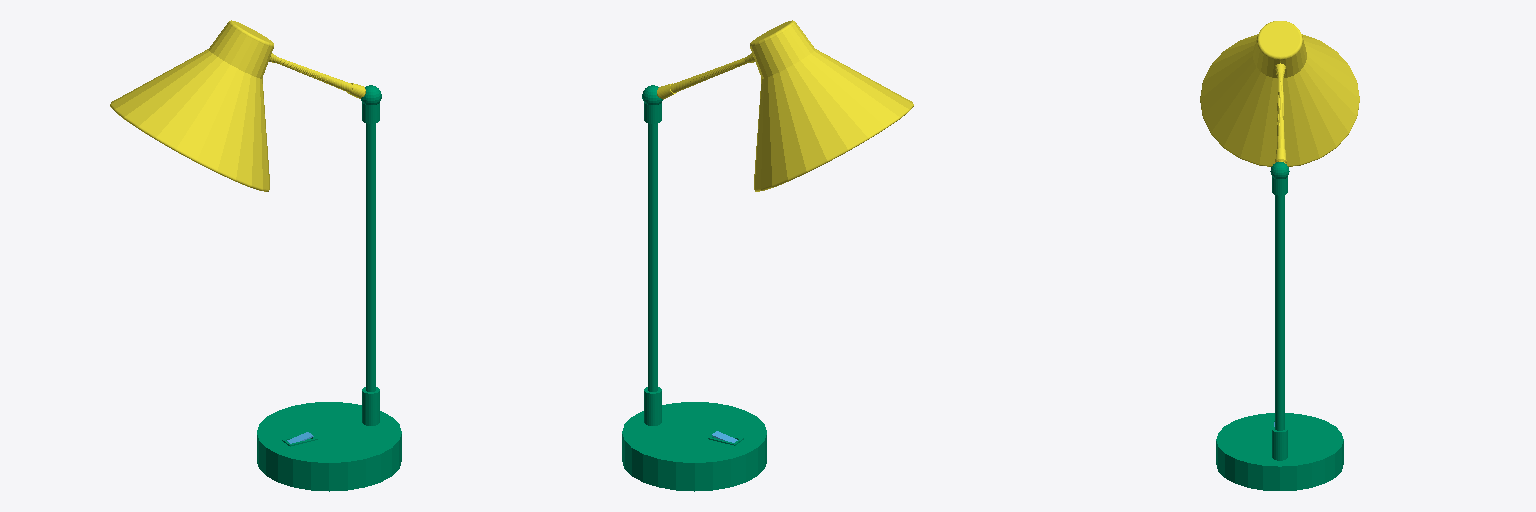
robot.urdf — partnet_80d86a40527fd0a7edd4171cd40b3feb:
<?xml version='1.0' encoding='utf-8'?>
<robot name="partnet_80d86a40527fd0a7edd4171cd40b3feb">
	<link name="base" />
	<link name="link_0">
		<visual name="movable_part-21">
			<origin xyz="0 0.7912494478839914 0.1292278414417505" />
			<geometry>
				<mesh filename="textured_objs/original-6.obj" />
			</geometry>
		</visual>
		<collision>
			<origin xyz="0 0.7912494478839914 0.1292278414417505" />
			<geometry>
				<mesh filename="textured_objs/original-6.obj" />
			</geometry>
		</collision>
	</link>
	<joint name="joint_0" type="revolute">
		<origin xyz="0 -0.7912494478839914 -0.1292278414417505" />
		<axis xyz="-1 0 0" />
		<child link="link_0" />
		<parent link="link_1" />
		<limit lower="0.0" upper="0.26389378290154264" />
	</joint>
	<link name="link_1">
		<visual name="other_leaf-24">
			<origin xyz="0 0 0" />
			<geometry>
				<mesh filename="textured_objs/original-14.obj" />
			</geometry>
		</visual>
		<visual name="other_leaf-24">
			<origin xyz="0 0 0" />
			<geometry>
				<mesh filename="textured_objs/original-15.obj" />
			</geometry>
		</visual>
		<visual name="other_leaf-24">
			<origin xyz="0 0 0" />
			<geometry>
				<mesh filename="textured_objs/original-16.obj" />
			</geometry>
		</visual>
		<visual name="other_leaf-24">
			<origin xyz="0 0 0" />
			<geometry>
				<mesh filename="textured_objs/original-17.obj" />
			</geometry>
		</visual>
		<visual name="other_leaf-24">
			<origin xyz="0 0 0" />
			<geometry>
				<mesh filename="textured_objs/original-18.obj" />
			</geometry>
		</visual>
		<visual name="other_leaf-24">
			<origin xyz="0 0 0" />
			<geometry>
				<mesh filename="textured_objs/original-19.obj" />
			</geometry>
		</visual>
		<visual name="other_leaf-24">
			<origin xyz="0 0 0" />
			<geometry>
				<mesh filename="textured_objs/original-20.obj" />
			</geometry>
		</visual>
		<visual name="other_leaf-24">
			<origin xyz="0 0 0" />
			<geometry>
				<mesh filename="textured_objs/original-22.obj" />
			</geometry>
		</visual>
		<visual name="other_leaf-24">
			<origin xyz="0 0 0" />
			<geometry>
				<mesh filename="textured_objs/original-21.obj" />
			</geometry>
		</visual>
		<visual name="other_leaf-24">
			<origin xyz="0 0 0" />
			<geometry>
				<mesh filename="textured_objs/original-23.obj" />
			</geometry>
		</visual>
		<visual name="other_leaf-24">
			<origin xyz="0 0 0" />
			<geometry>
				<mesh filename="textured_objs/original-24.obj" />
			</geometry>
		</visual>
		<visual name="lamp_pole-15">
			<origin xyz="0 0 0" />
			<geometry>
				<mesh filename="textured_objs/original-10.obj" />
			</geometry>
		</visual>
		<visual name="connector-9">
			<origin xyz="0 0 0" />
			<geometry>
				<mesh filename="textured_objs/original-11.obj" />
			</geometry>
		</visual>
		<visual name="lamp_base_part-17">
			<origin xyz="0 0 0" />
			<geometry>
				<mesh filename="textured_objs/original-25.obj" />
			</geometry>
		</visual>
		<visual name="fixed_part-22">
			<origin xyz="0 0 0" />
			<geometry>
				<mesh filename="textured_objs/original-5.obj" />
			</geometry>
		</visual>
		<collision>
			<origin xyz="0 0 0" />
			<geometry>
				<mesh filename="textured_objs/original-14.obj" />
			</geometry>
		</collision>
		<collision>
			<origin xyz="0 0 0" />
			<geometry>
				<mesh filename="textured_objs/original-15.obj" />
			</geometry>
		</collision>
		<collision>
			<origin xyz="0 0 0" />
			<geometry>
				<mesh filename="textured_objs/original-16.obj" />
			</geometry>
		</collision>
		<collision>
			<origin xyz="0 0 0" />
			<geometry>
				<mesh filename="textured_objs/original-17.obj" />
			</geometry>
		</collision>
		<collision>
			<origin xyz="0 0 0" />
			<geometry>
				<mesh filename="textured_objs/original-18.obj" />
			</geometry>
		</collision>
		<collision>
			<origin xyz="0 0 0" />
			<geometry>
				<mesh filename="textured_objs/original-19.obj" />
			</geometry>
		</collision>
		<collision>
			<origin xyz="0 0 0" />
			<geometry>
				<mesh filename="textured_objs/original-20.obj" />
			</geometry>
		</collision>
		<collision>
			<origin xyz="0 0 0" />
			<geometry>
				<mesh filename="textured_objs/original-22.obj" />
			</geometry>
		</collision>
		<collision>
			<origin xyz="0 0 0" />
			<geometry>
				<mesh filename="textured_objs/original-21.obj" />
			</geometry>
		</collision>
		<collision>
			<origin xyz="0 0 0" />
			<geometry>
				<mesh filename="textured_objs/original-23.obj" />
			</geometry>
		</collision>
		<collision>
			<origin xyz="0 0 0" />
			<geometry>
				<mesh filename="textured_objs/original-24.obj" />
			</geometry>
		</collision>
		<collision>
			<origin xyz="0 0 0" />
			<geometry>
				<mesh filename="textured_objs/original-10.obj" />
			</geometry>
		</collision>
		<collision>
			<origin xyz="0 0 0" />
			<geometry>
				<mesh filename="textured_objs/original-11.obj" />
			</geometry>
		</collision>
		<collision>
			<origin xyz="0 0 0" />
			<geometry>
				<mesh filename="textured_objs/original-25.obj" />
			</geometry>
		</collision>
		<collision>
			<origin xyz="0 0 0" />
			<geometry>
				<mesh filename="textured_objs/original-5.obj" />
			</geometry>
		</collision>
	</link>
	<joint name="joint_1" type="fixed">
		<origin rpy="1.570796326794897 0 -1.570796326794897" xyz="0 0 0" />
		<child link="link_1" />
		<parent link="base" />
	</joint>
	<link name="link_2">
		<visual name="lamp_arm_straight_bar-7">
			<origin xyz="0.004340000000000001 0 0.38319" />
			<geometry>
				<mesh filename="textured_objs/original-3.obj" />
			</geometry>
		</visual>
		<visual name="lamp_shade-13">
			<origin xyz="0.004340000000000001 0 0.38319" />
			<geometry>
				<mesh filename="textured_objs/new-3.obj" />
			</geometry>
		</visual>
		<visual name="light_socket-11">
			<origin xyz="0.004340000000000001 0 0.38319" />
			<geometry>
				<mesh filename="textured_objs/new-0.obj" />
			</geometry>
		</visual>
		<visual name="light_socket-11">
			<origin xyz="0.004340000000000001 0 0.38319" />
			<geometry>
				<mesh filename="textured_objs/original-29.obj" />
			</geometry>
		</visual>
		<visual name="light_socket-11">
			<origin xyz="0.004340000000000001 0 0.38319" />
			<geometry>
				<mesh filename="textured_objs/original-26.obj" />
			</geometry>
		</visual>
		<visual name="light_bulb-12">
			<origin xyz="0.004340000000000001 0 0.38319" />
			<geometry>
				<mesh filename="textured_objs/new-1.obj" />
			</geometry>
		</visual>
		<visual name="lamp_cover_holder-14">
			<origin xyz="0.004340000000000001 0 0.38319" />
			<geometry>
				<mesh filename="textured_objs/new-2.obj" />
			</geometry>
		</visual>
		<collision>
			<origin xyz="0.004340000000000001 0 0.38319" />
			<geometry>
				<mesh filename="textured_objs/original-3.obj" />
			</geometry>
		</collision>
		<collision>
			<origin xyz="0.004340000000000001 0 0.38319" />
			<geometry>
				<mesh filename="textured_objs/new-3.obj" />
			</geometry>
		</collision>
		<collision>
			<origin xyz="0.004340000000000001 0 0.38319" />
			<geometry>
				<mesh filename="textured_objs/new-0.obj" />
			</geometry>
		</collision>
		<collision>
			<origin xyz="0.004340000000000001 0 0.38319" />
			<geometry>
				<mesh filename="textured_objs/original-29.obj" />
			</geometry>
		</collision>
		<collision>
			<origin xyz="0.004340000000000001 0 0.38319" />
			<geometry>
				<mesh filename="textured_objs/original-26.obj" />
			</geometry>
		</collision>
		<collision>
			<origin xyz="0.004340000000000001 0 0.38319" />
			<geometry>
				<mesh filename="textured_objs/new-1.obj" />
			</geometry>
		</collision>
		<collision>
			<origin xyz="0.004340000000000001 0 0.38319" />
			<geometry>
				<mesh filename="textured_objs/new-2.obj" />
			</geometry>
		</collision>
	</link>
	<joint name="joint_2" type="continuous">
		<origin xyz="-0.004340000000000001 0 -0.38319" />
		<axis xyz="0 1 0" />
		<child link="link_2" />
		<parent link="link_1" />
	</joint>
</robot>

--- Facts derived from the render (not from the file) ---
Views: 3 orthographic renders of the robot side by side, from view 1: azimuth 30°, elevation 25°; view 2: azimuth 150°, elevation 25°; view 3: azimuth 270°, elevation 25°.
Robot: partnet_80d86a40527fd0a7edd4171cd40b3feb — 4 links, 3 joints (1 revolute, 1 continuous, 1 fixed); root link base; default pose: every joint at zero.
Links seen in each view (by area): view 1: link_2, link_1; view 2: link_2, link_1; view 3: link_2, link_1.
Link boxes in pixels (left/top/right/bottom): link_2: left=110, top=20, right=365, bottom=191; link_1: left=257, top=85, right=401, bottom=491; link_2: left=657, top=20, right=913, bottom=191; link_1: left=622, top=85, right=766, bottom=491; link_2: left=1200, top=21, right=1359, bottom=166; link_1: left=1216, top=162, right=1343, bottom=490.
Size in the robot's own frame: 0.9548 by 0.5621 by 1.56 metres.
Meshes: 23 distinct files referenced, 23 mesh visuals loaded (23 OBJ).